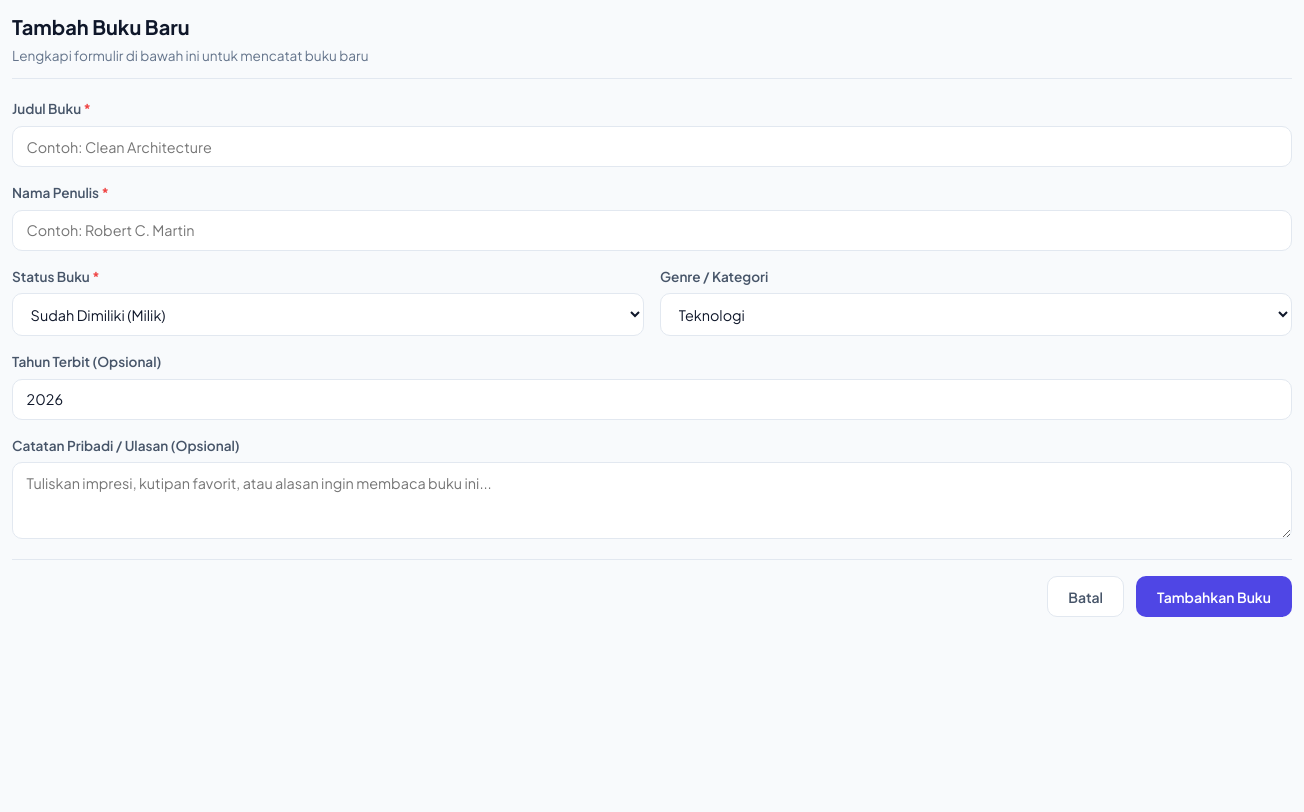
Test case: Komponen BookForm › menampilkan pesan validasi error ketika disubmit tanpa mengisi field wajib
Step 1. Click the button "Tambahkan Buku" → click(1214, 597), box [1136,576,1292,617]
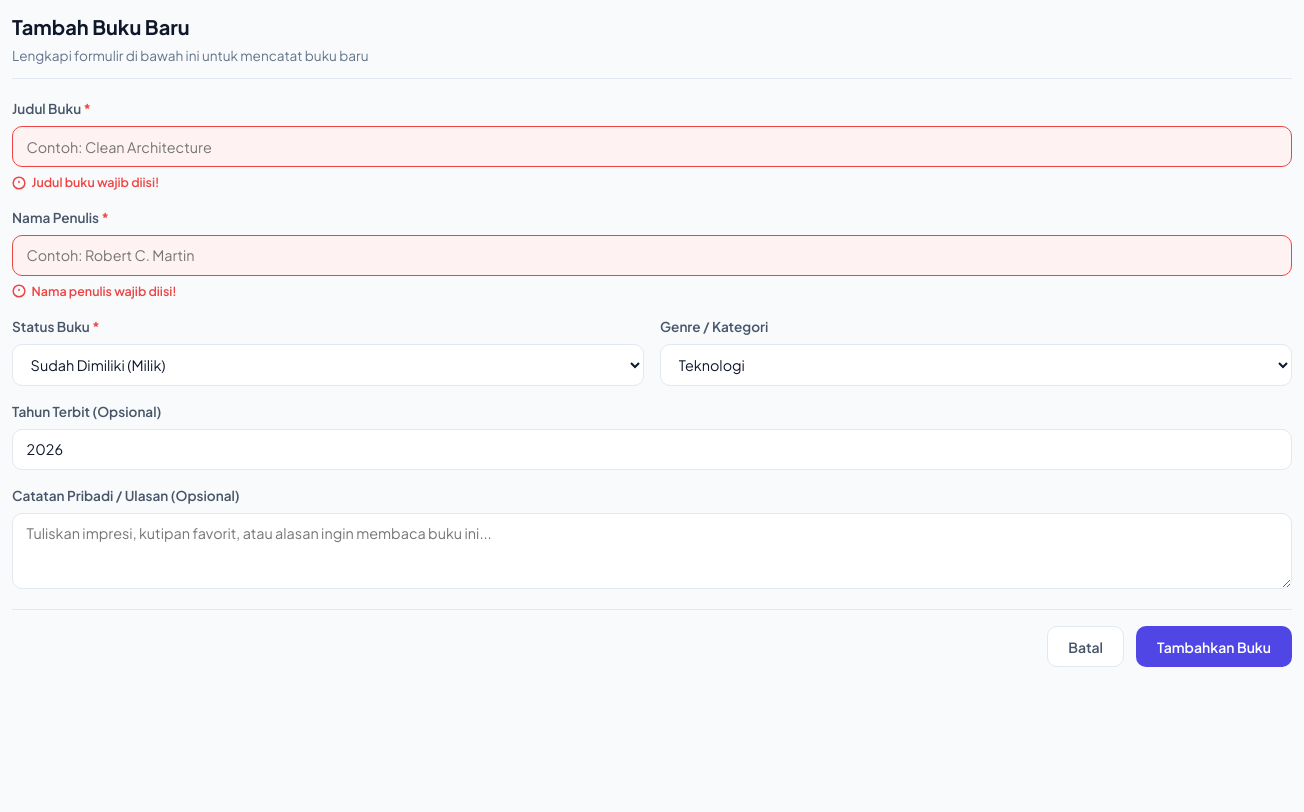
Result: the text "Judul buku wajib diisi!" is shown at [12,174,159,190]
Result: the text "Nama penulis wajib diisi!" is shown at [12,283,177,299]
